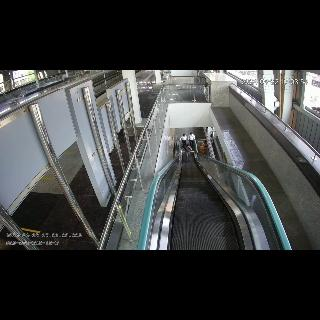normal: (184, 144, 192, 162), (188, 132, 196, 148), (180, 134, 187, 148)
